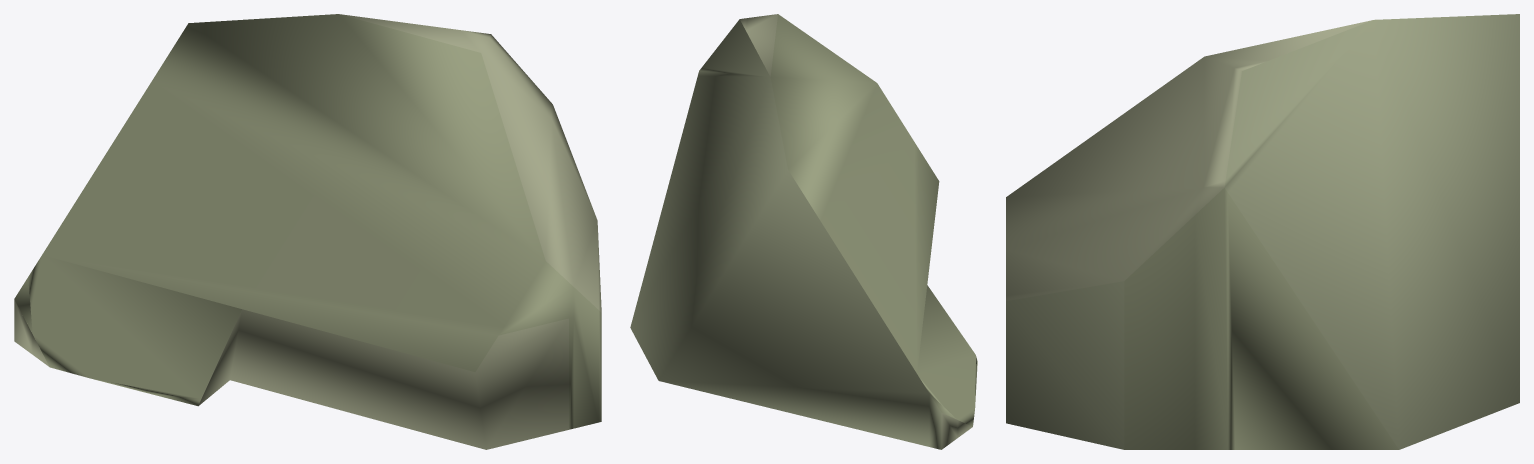
Rendered from lrock5.glb.
3 views of the same model, side by side, from view 1: azimuth 30°, elevation 25°; view 2: azimuth 150°, elevation 25°; view 3: azimuth 270°, elevation 25° (orthographic). The views are drawn at different scales.
Visible parts, largest first — view 1: lrock5; view 2: lrock5; view 3: lrock5.
Boxes of the visible parts, box(x1,y1,x2,y2) form: lrock5: box(14, 14, 601, 449); lrock5: box(630, 14, 977, 449); lrock5: box(1006, 14, 1519, 449).
Size of the model in its own units: 4.64 by 3.4 by 4.53.
